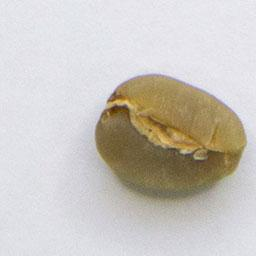premium: (91, 70, 249, 195)
